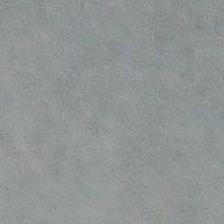Non_Crack: (43, 33, 204, 206)
